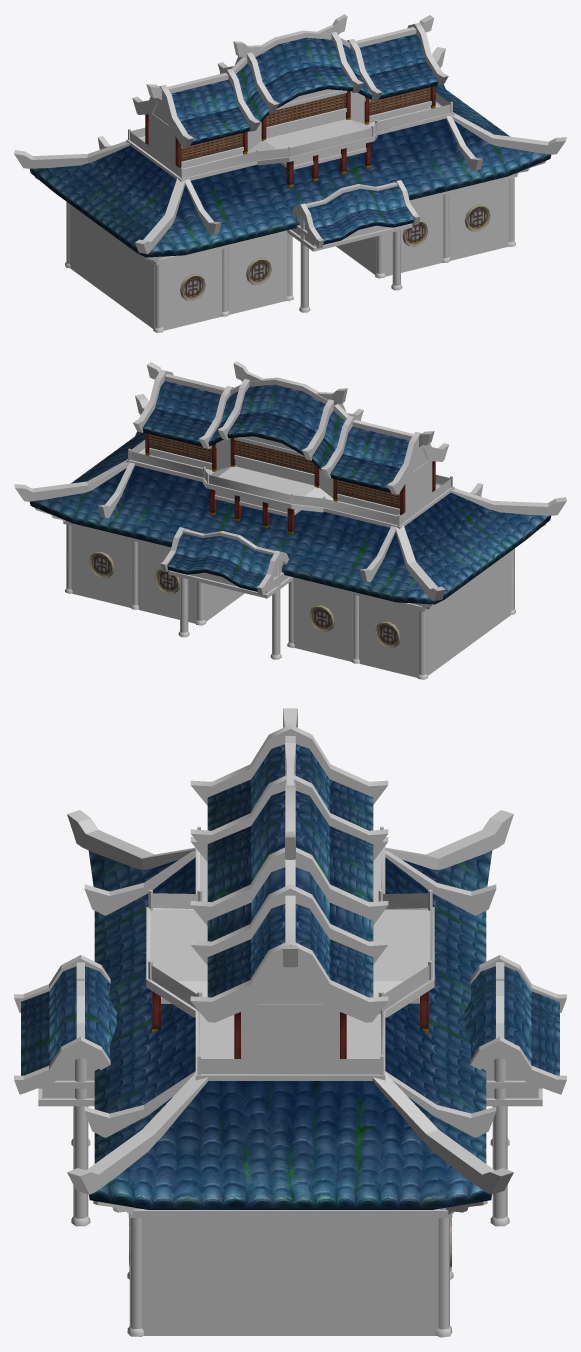
The model's file is environment_Building_luoxiaguan_001_g.FBX.
3 views of the same model, one above another, from view 1: azimuth 30°, elevation 25°; view 2: azimuth 150°, elevation 25°; view 3: azimuth 270°, elevation 25° (orthographic). The views are drawn at different scales.
Visible parts, largest first — view 1: environment_Building_luoxiaguan_001_g02, environment_Building_luoxiaguan_001_g04, environment_Building_luoxiaguan_001_g12, environment_Building_luoxiaguan_001_g01, environment_Building_luoxiaguan_001_g08, environment_Building_luoxiaguan_001_g07, environment_Building_luoxiaguan_001_g03, environment_Building_luoxiaguan_001_g09, environment_Building_luoxiaguan_001_g10, environment_Building_luoxiaguan_001_g05, environment_Building_luoxiaguan_001_g06; view 2: environment_Building_luoxiaguan_001_g02, environment_Building_luoxiaguan_001_g04, environment_Building_luoxiaguan_001_g12, environment_Building_luoxiaguan_001_g01, environment_Building_luoxiaguan_001_g08, environment_Building_luoxiaguan_001_g07, environment_Building_luoxiaguan_001_g03, environment_Building_luoxiaguan_001_g09, environment_Building_luoxiaguan_001_g10, environment_Building_luoxiaguan_001_g05, environment_Building_luoxiaguan_001_g06; view 3: environment_Building_luoxiaguan_001_g02, environment_Building_luoxiaguan_001_g12, environment_Building_luoxiaguan_001_g04, environment_Building_luoxiaguan_001_g01, environment_Building_luoxiaguan_001_g09, environment_Building_luoxiaguan_001_g08, environment_Building_luoxiaguan_001_g07, environment_Building_luoxiaguan_001_g10.
Boxes of the visible parts, <box> form: environment_Building_luoxiaguan_001_g02: <box>29,34,551,257</box>; environment_Building_luoxiaguan_001_g04: <box>69,94,508,330</box>; environment_Building_luoxiaguan_001_g12: <box>14,14,566,254</box>; environment_Building_luoxiaguan_001_g01: <box>126,90,517,264</box>; environment_Building_luoxiaguan_001_g08: <box>65,177,515,332</box>; environment_Building_luoxiaguan_001_g07: <box>130,93,450,177</box>; environment_Building_luoxiaguan_001_g03: <box>181,87,430,161</box>; environment_Building_luoxiaguan_001_g09: <box>140,103,440,169</box>; environment_Building_luoxiaguan_001_g10: <box>145,86,435,187</box>; environment_Building_luoxiaguan_001_g05: <box>180,204,490,300</box>; environment_Building_luoxiaguan_001_g06: <box>184,208,486,296</box>; environment_Building_luoxiaguan_001_g02: <box>29,381,551,604</box>; environment_Building_luoxiaguan_001_g04: <box>71,440,511,677</box>; environment_Building_luoxiaguan_001_g12: <box>14,361,566,601</box>; environment_Building_luoxiaguan_001_g01: <box>63,437,454,611</box>; environment_Building_luoxiaguan_001_g08: <box>65,524,515,679</box>; environment_Building_luoxiaguan_001_g07: <box>130,440,450,524</box>; environment_Building_luoxiaguan_001_g03: <box>150,434,399,508</box>; environment_Building_luoxiaguan_001_g09: <box>140,450,440,516</box>; environment_Building_luoxiaguan_001_g10: <box>145,433,435,534</box>; environment_Building_luoxiaguan_001_g05: <box>89,551,400,647</box>; environment_Building_luoxiaguan_001_g06: <box>93,555,396,644</box>; environment_Building_luoxiaguan_001_g02: <box>21,744,559,1209</box>; environment_Building_luoxiaguan_001_g12: <box>14,708,566,1194</box>; environment_Building_luoxiaguan_001_g04: <box>141,1011,438,1335</box>; environment_Building_luoxiaguan_001_g01: <box>38,826,542,1217</box>; environment_Building_luoxiaguan_001_g09: <box>150,852,430,1058</box>; environment_Building_luoxiaguan_001_g08: <box>71,1057,509,1337</box>; environment_Building_luoxiaguan_001_g07: <box>151,893,429,1073</box>; environment_Building_luoxiaguan_001_g10: <box>152,991,428,1058</box>.
Bounding box in the file's own units: 2004 × 1278 × 1006.
